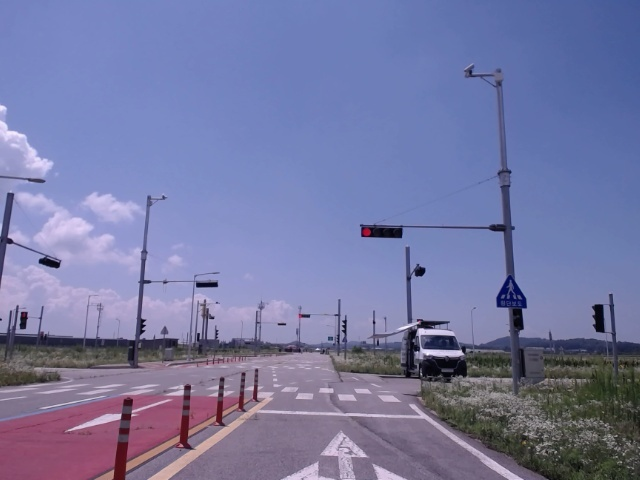red_4: (361, 227, 403, 239)
